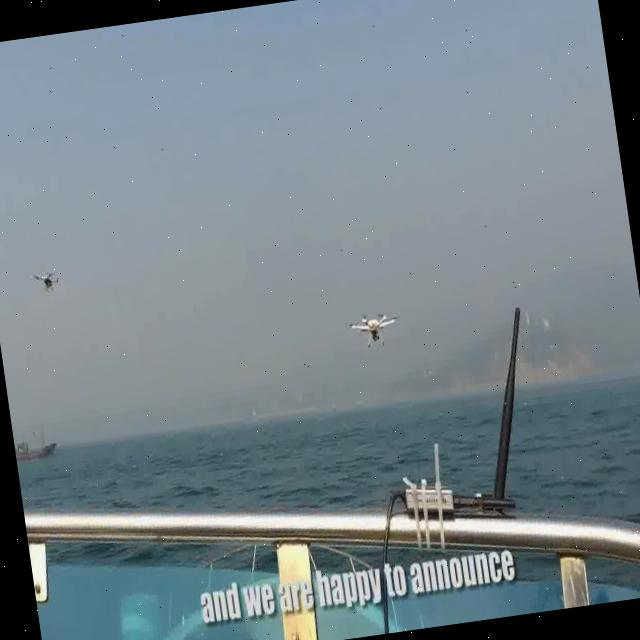drone: (44, 570, 640, 640), (330, 282, 418, 376)
